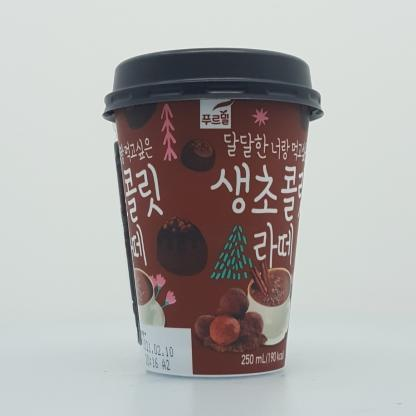----------250ML: (102, 48, 324, 377)
